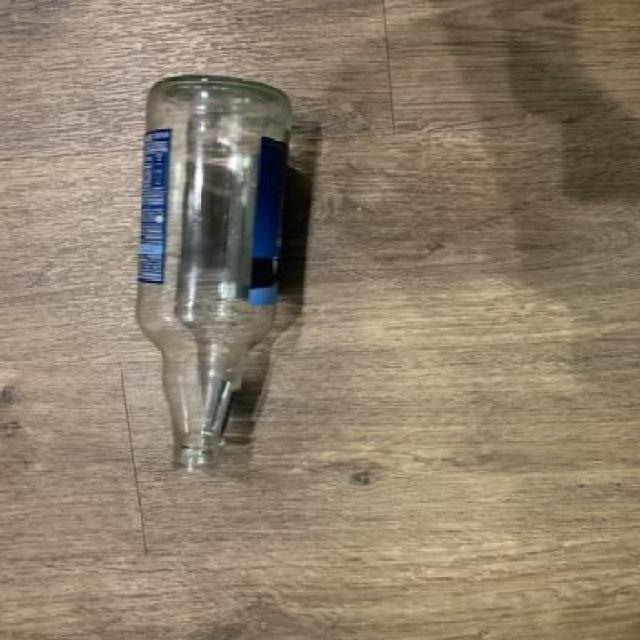trash: (130, 68, 299, 477)
